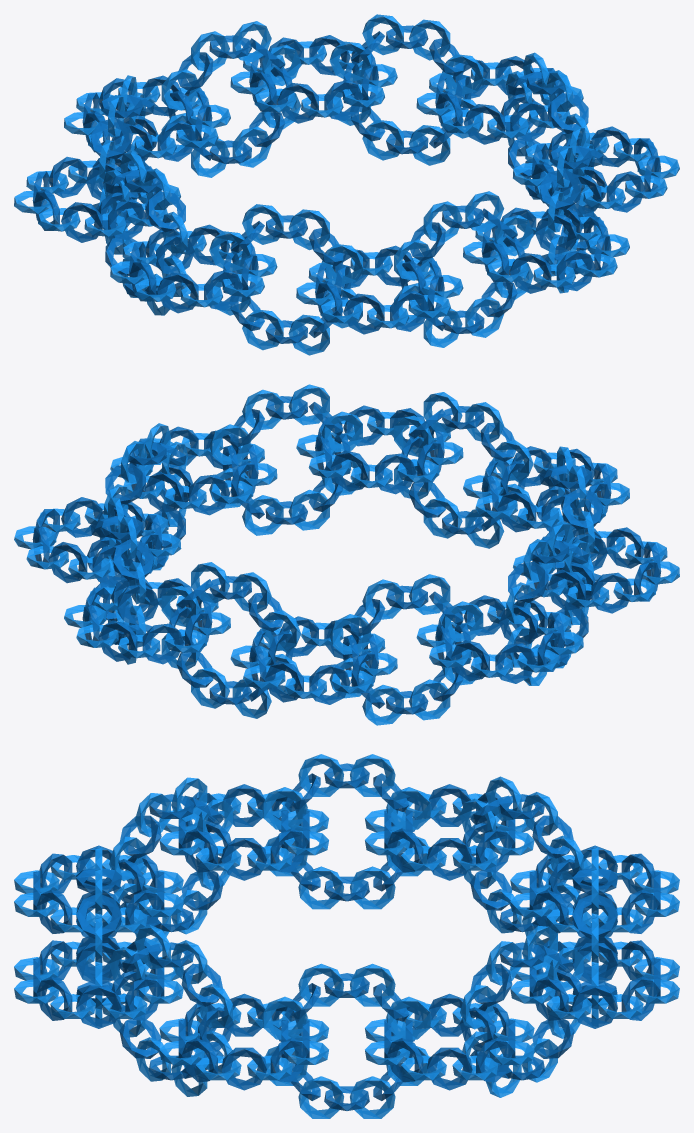
File: fractalantioctagonaliristoroid2.glb
3 views of the same model, one above another, from view 1: azimuth 30°, elevation 25°; view 2: azimuth 150°, elevation 25°; view 3: azimuth 270°, elevation 25° (orthographic). The views are drawn at different scales.
Bounding box in the file's own units: 10.74 × 2.74 × 10.74.
